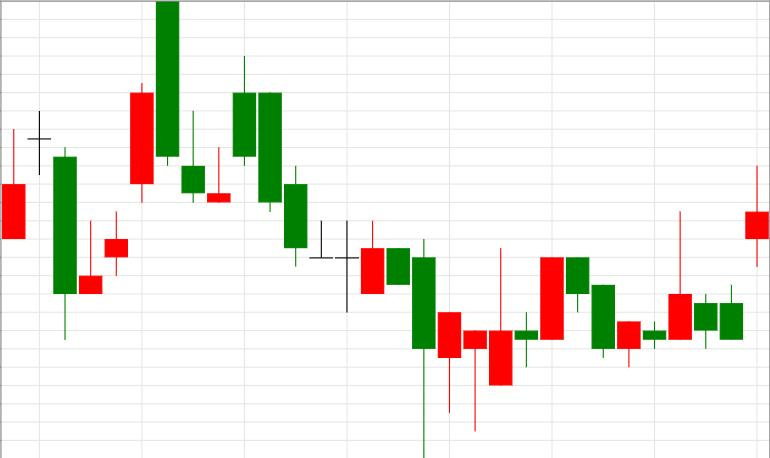hammer_rise: (233, 56, 461, 458)
